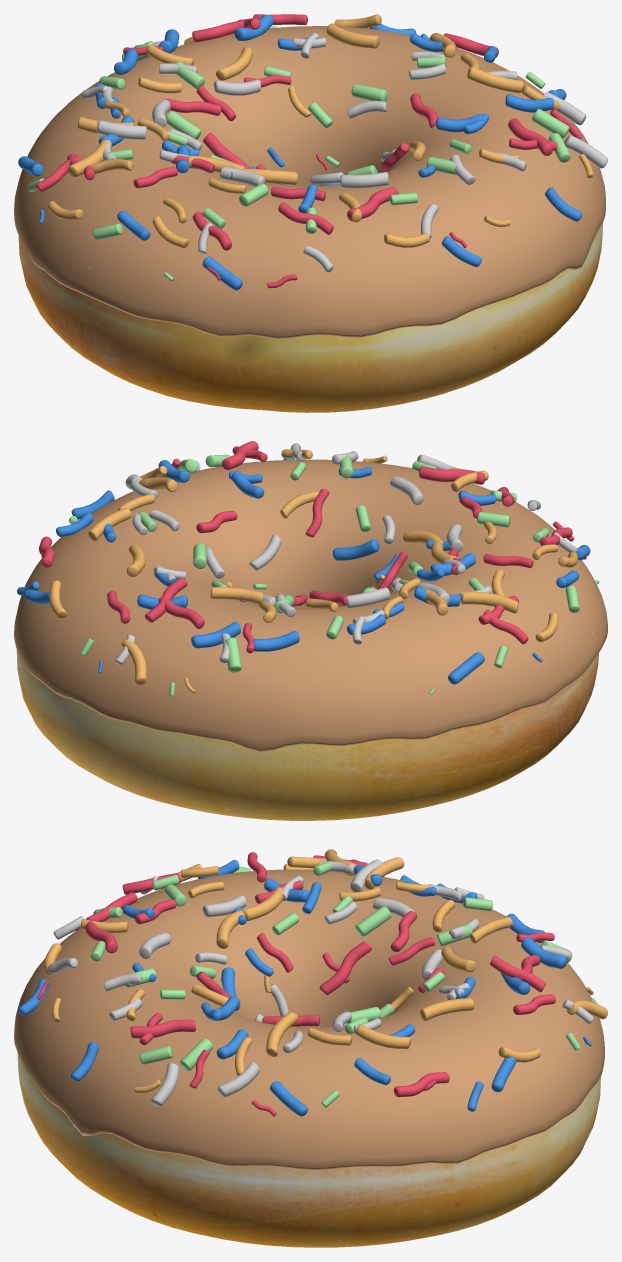
The model's file is light rainbow vermicheli.glb.
3 views of the same model, one above another, from view 1: azimuth 30°, elevation 25°; view 2: azimuth 150°, elevation 25°; view 3: azimuth 270°, elevation 25° (orthographic). The views are drawn at different scales.
Parts seen in each view (by area): view 1: chocolate.004, rainbow, Torus; view 2: chocolate.004, Torus, rainbow; view 3: chocolate.004, rainbow, Torus.
Part boxes in pixels (x1,y1,x2,y2): chocolate.004: (14, 26, 605, 339); rainbow: (18, 14, 607, 290); Torus: (18, 222, 602, 412); chocolate.004: (14, 459, 607, 752); Torus: (16, 649, 598, 820); rainbow: (17, 441, 599, 696); chocolate.004: (14, 869, 604, 1170); rainbow: (18, 849, 607, 1116); Torus: (17, 1052, 600, 1247).
Bounding box in the file's own units: 0.1988 × 0.0811 × 0.198.
7 materials, 1 textured.
